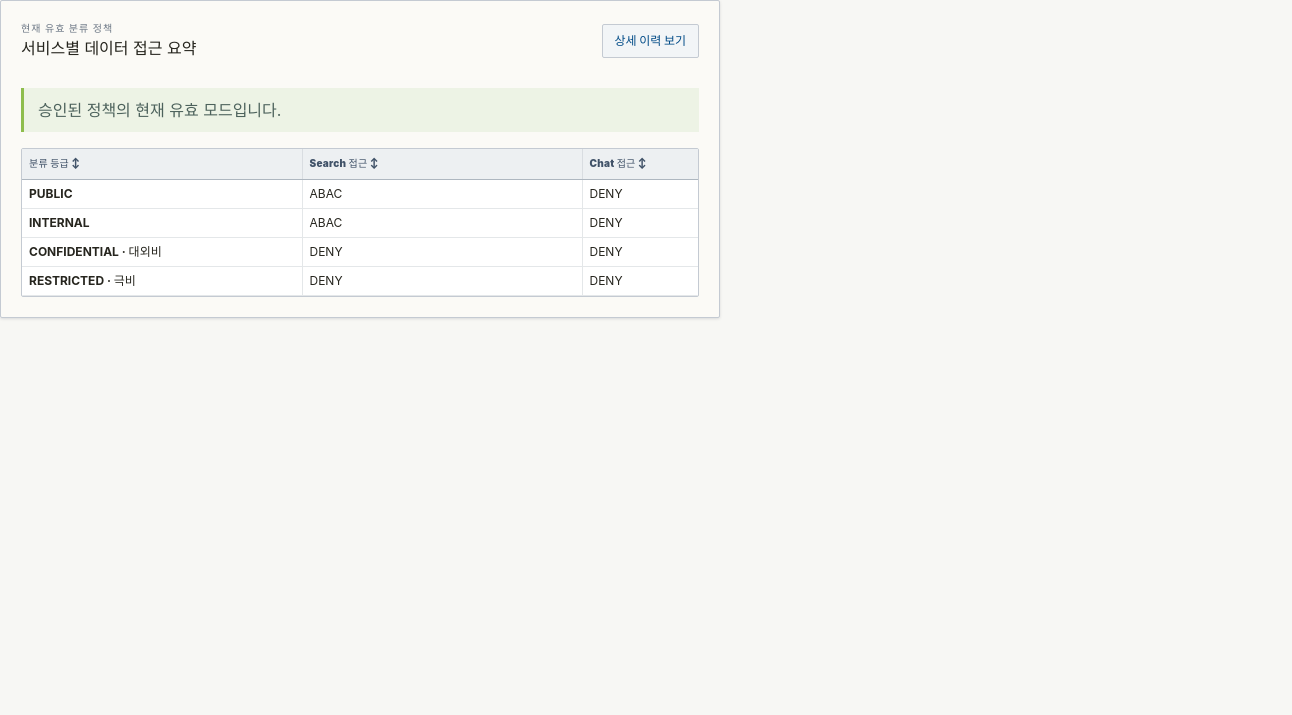
Test: ClassificationPolicyAdmin › does not let an older policy load overwrite a newer refresh
Expected: the table named "현재 유효 분류 정책 요약" is shown, x1=22 y1=149 x2=699 y2=296
What coordinates should you click on to do the following:
click the button "상세 이력 보기"
I would click on:
 (650, 40)
Its box is x1=602 y1=24 x2=699 y2=58.
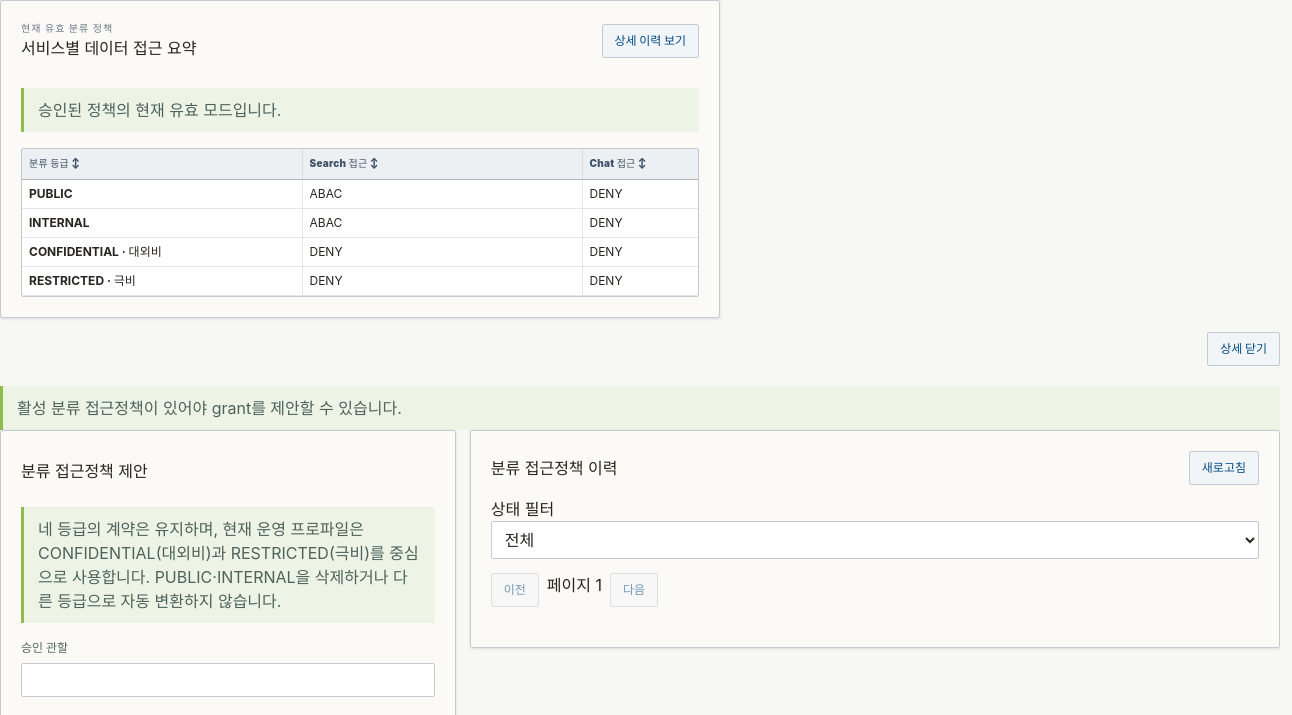
What coordinates should you click on to do the following:
click the button "새로고침"
I would click on:
 (1224, 468)
Its box is x1=1189 y1=451 x2=1259 y2=485.
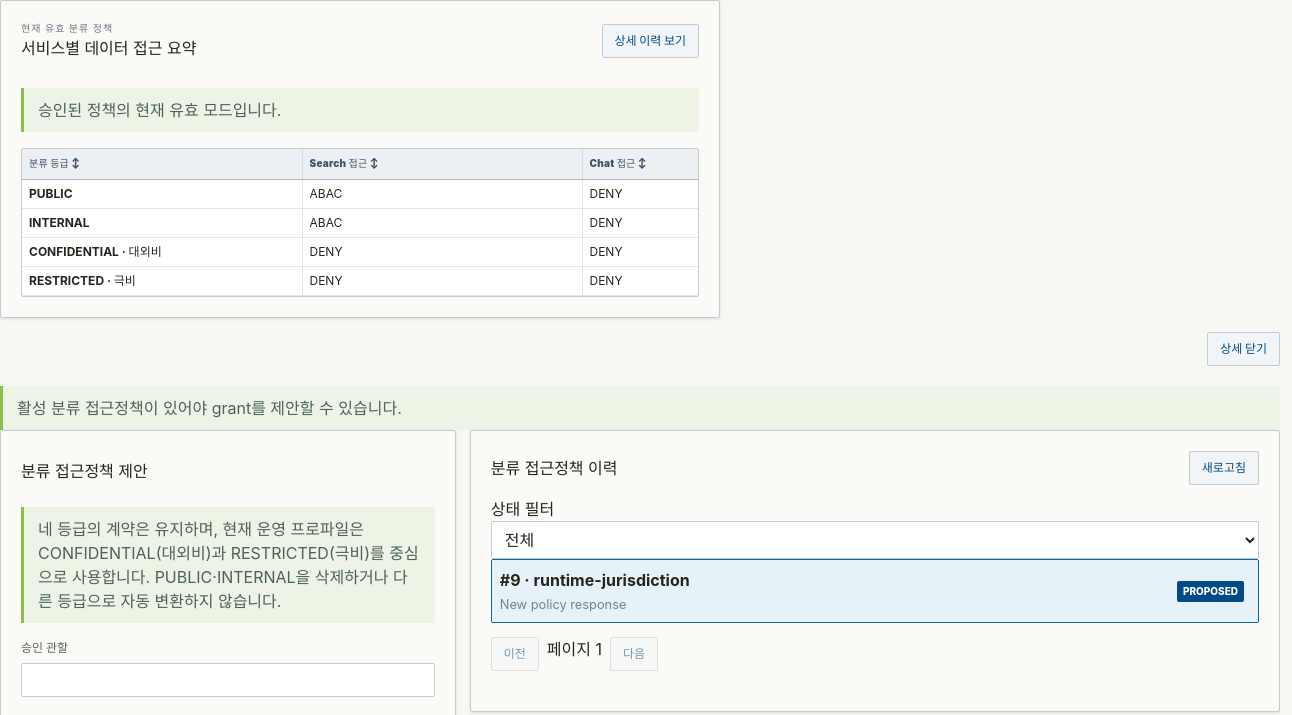
Now the text "New policy response" is shown, box x1=500 y1=597 x2=626 y2=612
